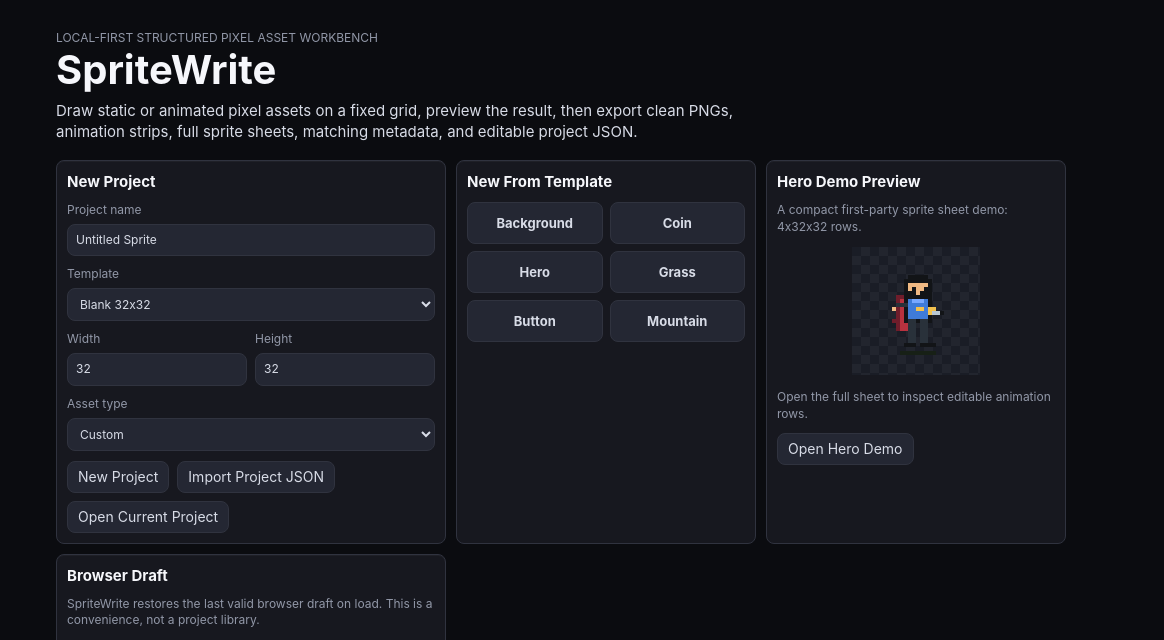
Test case: App shell › switches between frame editing and the full sprite sheet workspace
Click the button "New Project".
click(118, 477)  # box [67,461,169,493]
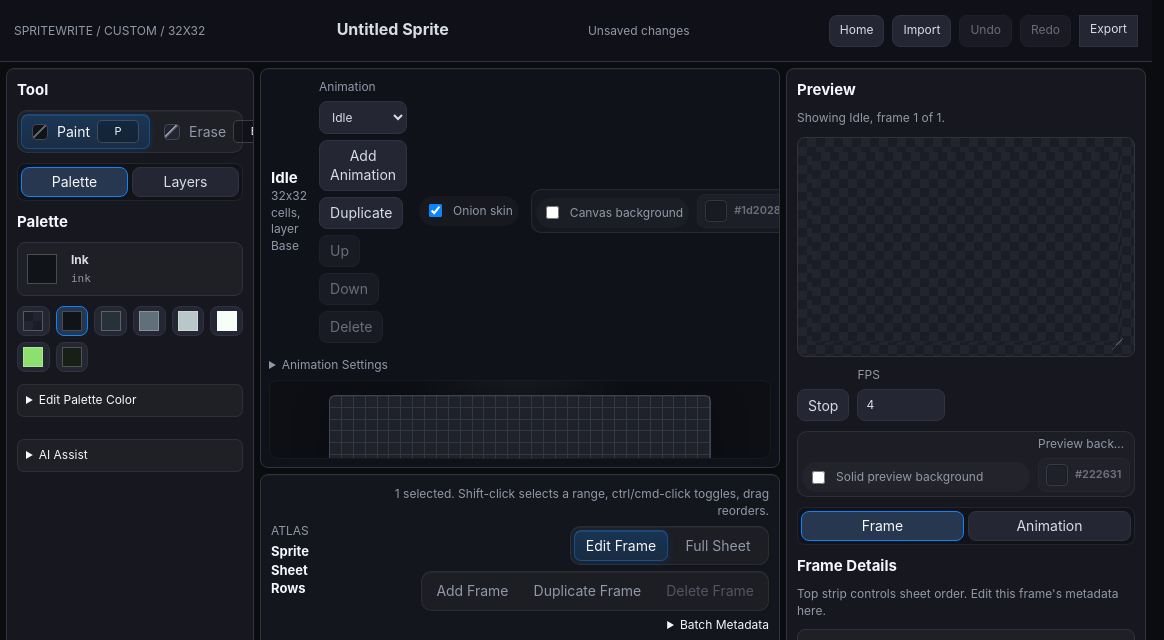
Click the button "Add Frame".
click(472, 591)  # box [425,575,520,607]
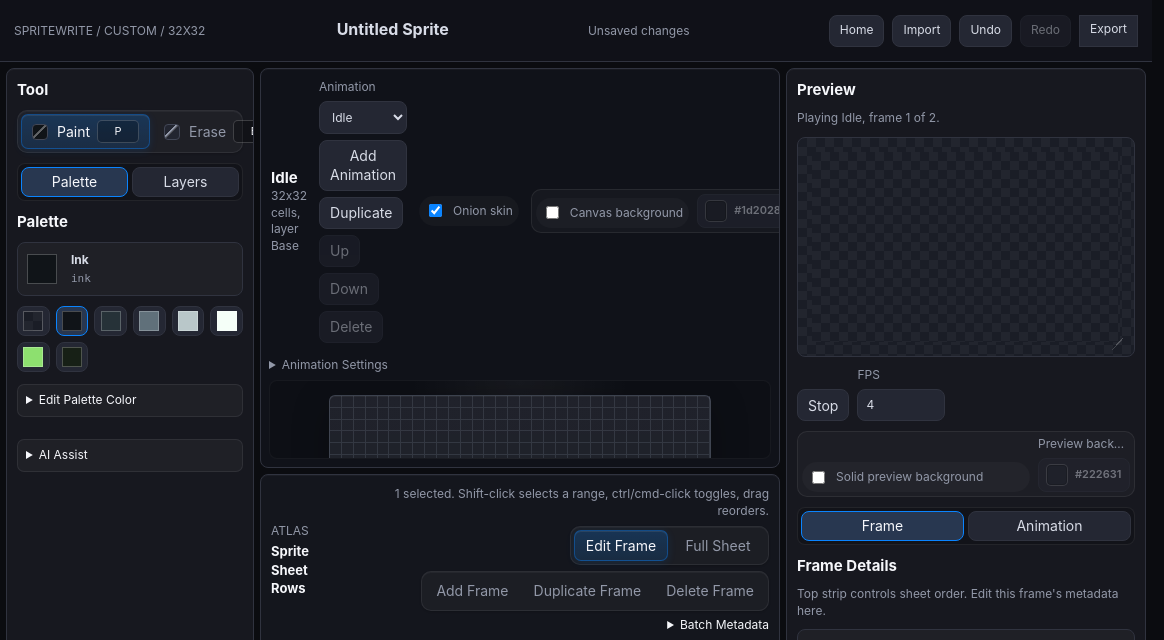
Click the button "Full Sheet".
click(718, 545)  # box [671,530,765,561]
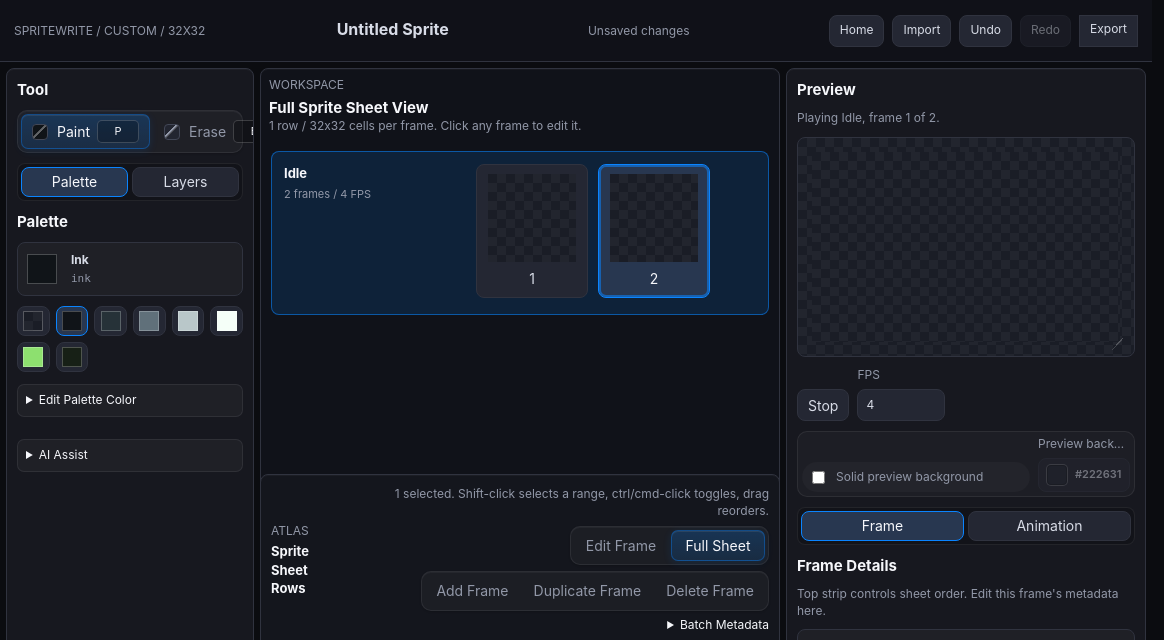
Now the text "Full Sprite Sheet View" is shown, box [269,98,428,117]
Click the button "2".
click(654, 231)  # box [598,164,710,298]
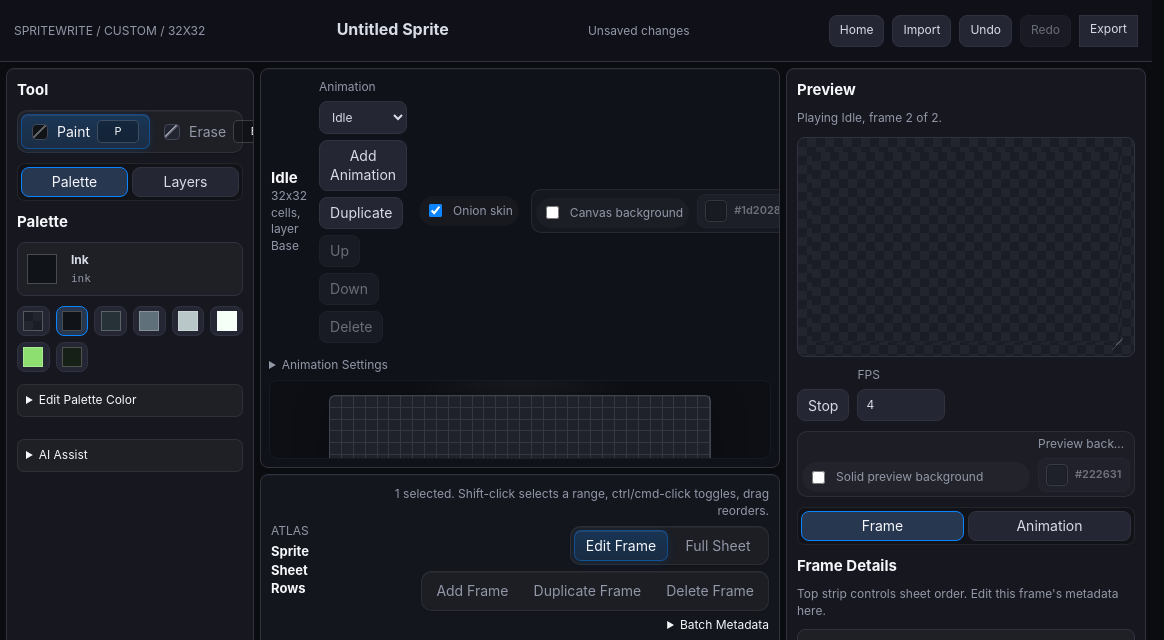
Now the text "Full Sprite Sheet View" is gone
